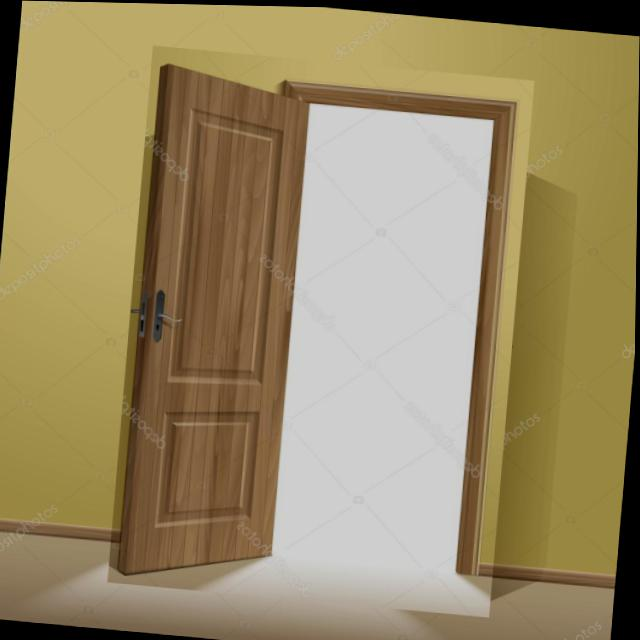open: (108, 44, 535, 616)
